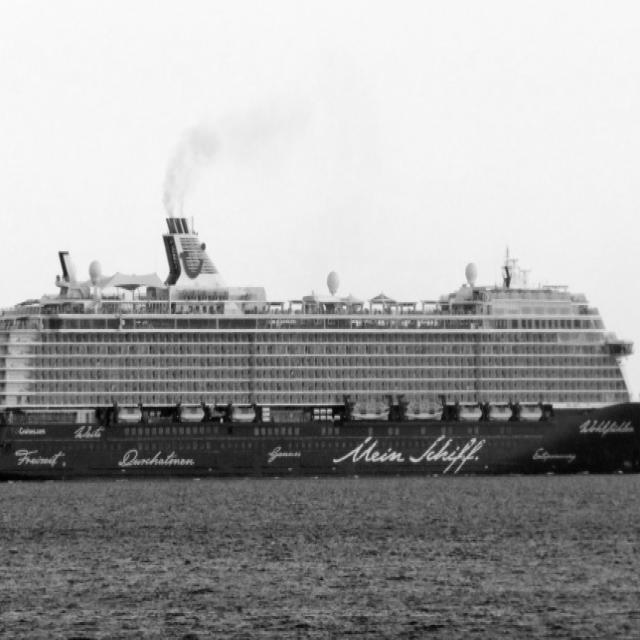cruises: (1, 210, 640, 487)
